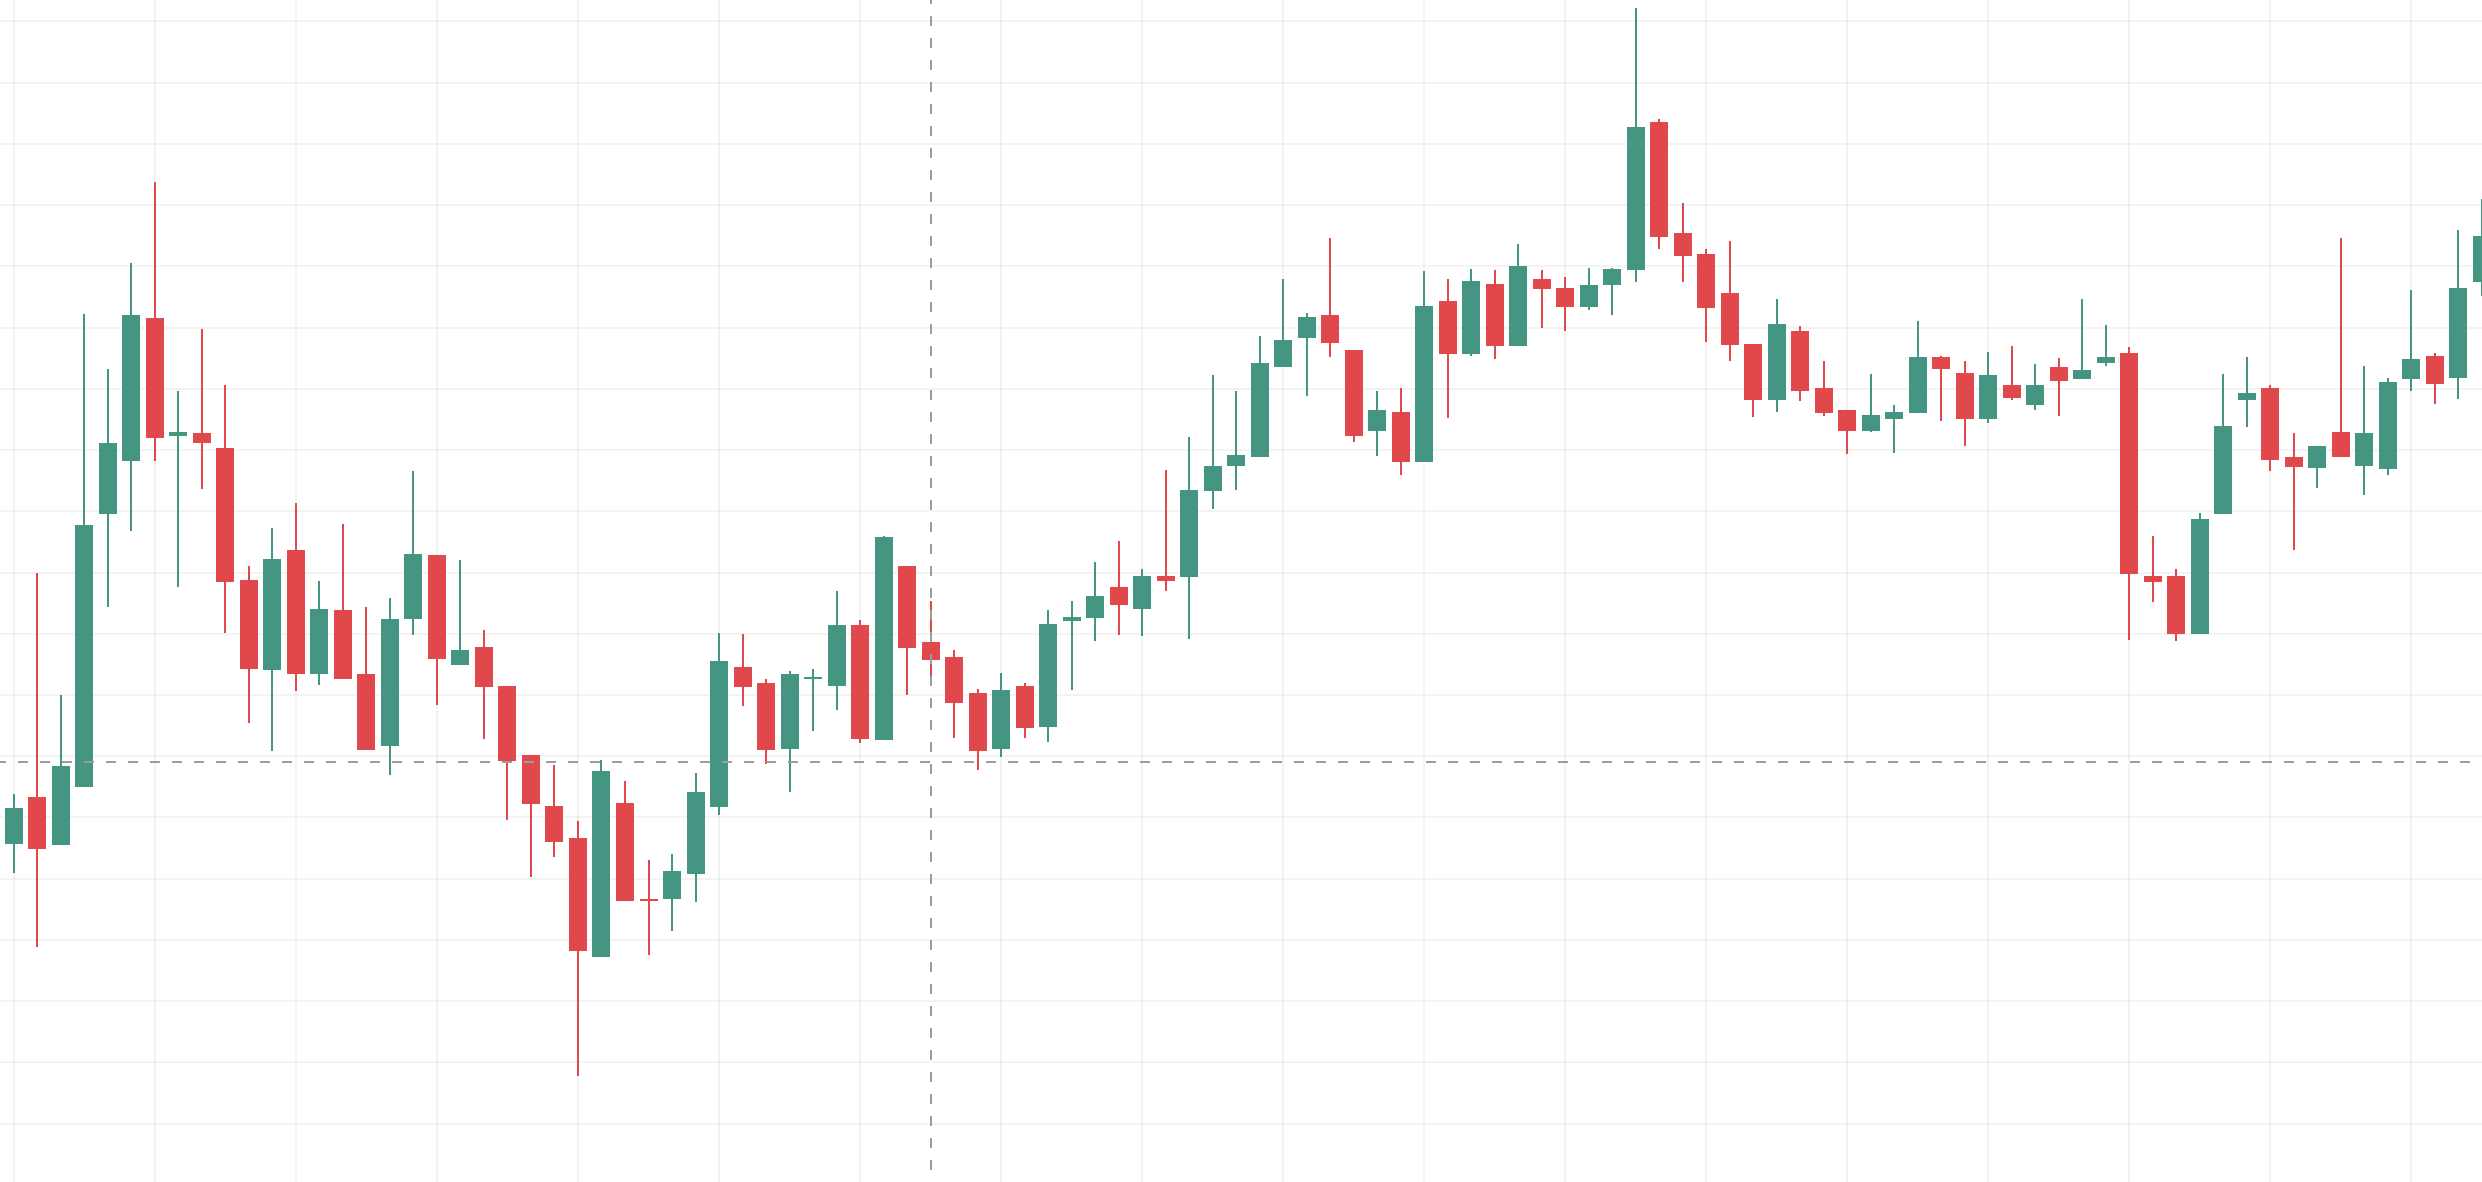V-turn: (378, 375, 684, 1154)
